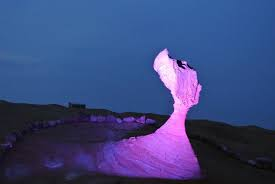yehliu: (149, 48, 207, 111)
